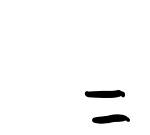eqv: (82, 86, 133, 125)
